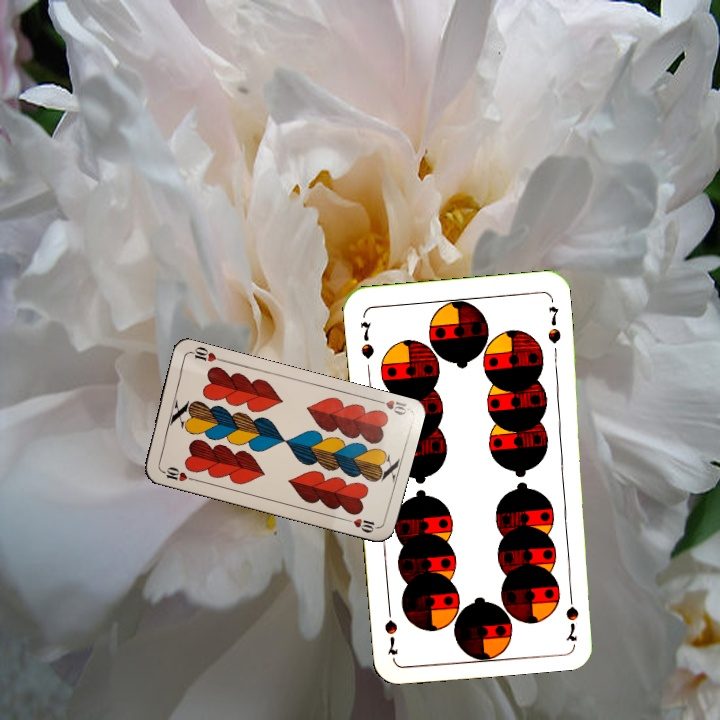H10: (370, 394, 411, 419), (156, 463, 196, 484)
S7: (562, 584, 581, 644), (356, 317, 376, 361)
